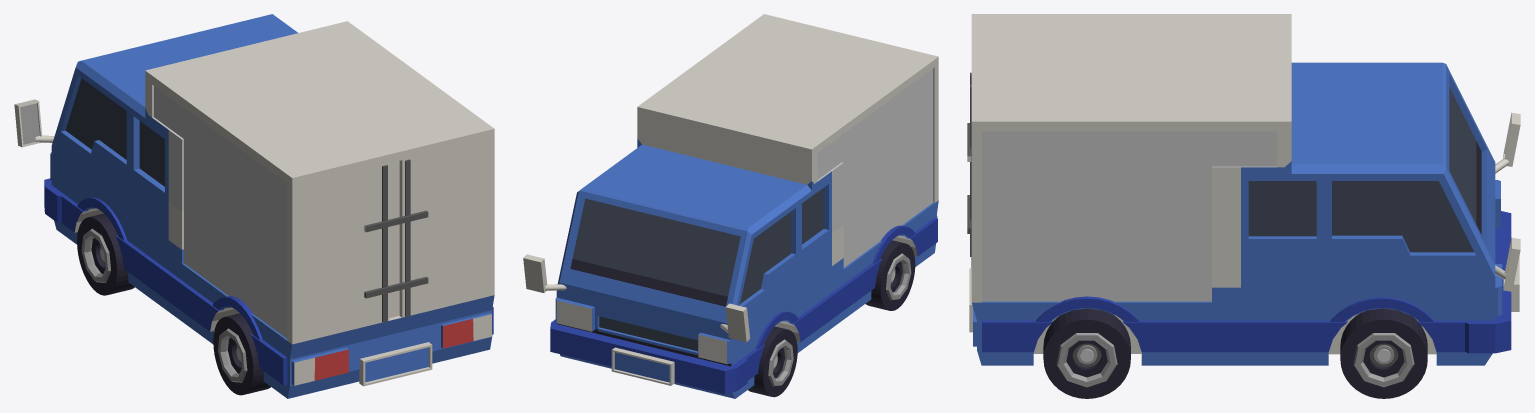
The model's file is obstacle_3.fbx.
3 views of the same model, side by side, from view 1: azimuth 30°, elevation 25°; view 2: azimuth 150°, elevation 25°; view 3: azimuth 270°, elevation 25° (orthographic). The views are drawn at different scales.
Visible parts, largest first — view 1: chelun_4; view 2: chelun_4; view 3: chelun_4.
Part boxes in pixels (<box>): chelun_4: <box>14,14,494,398</box>; chelun_4: <box>523,14,938,398</box>; chelun_4: <box>967,14,1520,398</box>.
Bounding box in the file's own units: 353 × 333 × 609.
